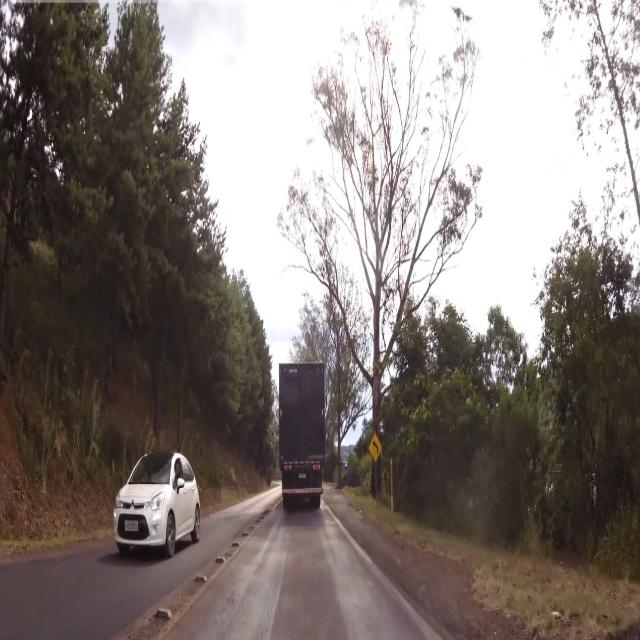A-2a: (368, 429, 386, 462)
